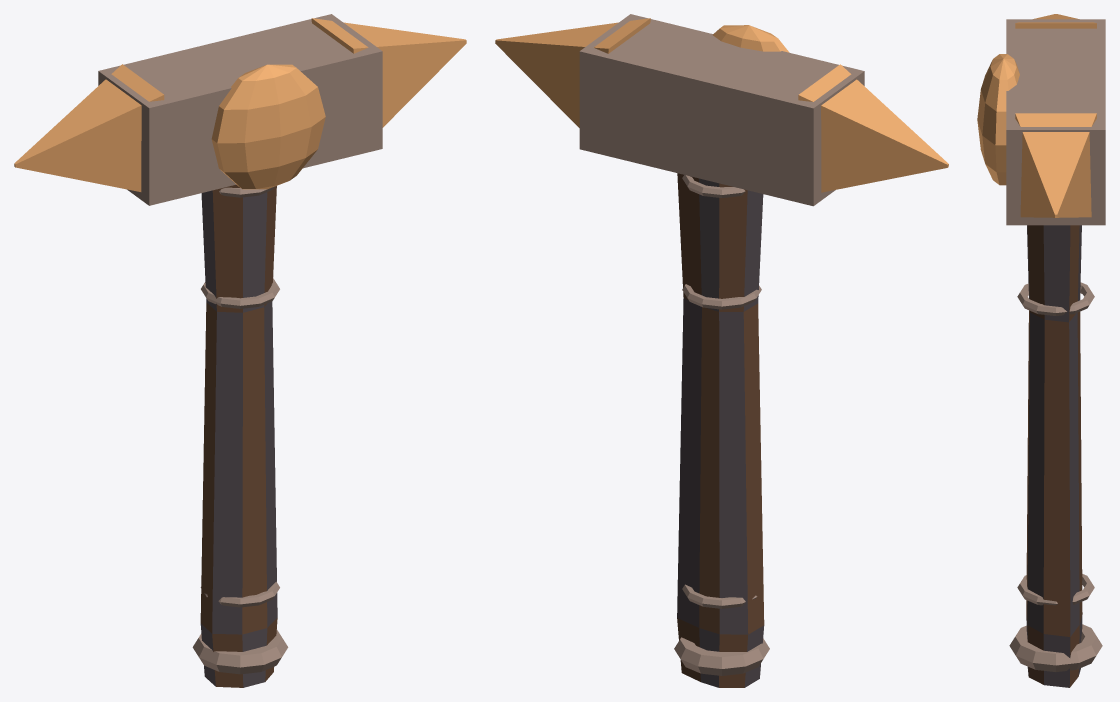
Rendered from BH_PICK_P02_Picareta_de_Cobre_Encantado_V01.glb.
3 views of the same model, side by side, from view 1: azimuth 30°, elevation 25°; view 2: azimuth 150°, elevation 25°; view 3: azimuth 270°, elevation 25° (orthographic). The views are drawn at different scales.
Visible parts, largest first — view 1: Handle | shaped shaft.001, Head | main crossbar.001, Core | socket gem.001, Head | mining tooth L.001, Head | mining tooth R.001, Handle | pommel.001, Handle | binding 3.001; view 2: Handle | shaped shaft.001, Head | main crossbar.001, Head | mining tooth L.001, Head | mining tooth R.001, Handle | pommel.001, Core | socket gem.001, Handle | binding 3.001, Handle | binding 1.001; view 3: Handle | shaped shaft.001, Head | main crossbar.001, Head | mining tooth R.001, Core | socket gem.001, Handle | pommel.001, Handle | binding 3.001, Head | mining tooth L.001, Handle | binding 1.001.
Boxes of the visible parts, left/top/right/bottom form: Handle | shaped shaft.001: left=200, top=184, right=277, bottom=687; Head | main crossbar.001: left=98, top=14, right=382, bottom=205; Core | socket gem.001: left=211, top=64, right=325, bottom=189; Head | mining tooth L.001: left=14, top=64, right=164, bottom=191; Head | mining tooth R.001: left=311, top=18, right=466, bottom=127; Handle | pommel.001: left=192, top=629, right=288, bottom=674; Handle | binding 3.001: left=201, top=278, right=279, bottom=308; Handle | shaped shaft.001: left=677, top=173, right=764, bottom=687; Head | main crossbar.001: left=579, top=14, right=864, bottom=206; Head | mining tooth L.001: left=798, top=64, right=948, bottom=192; Head | mining tooth R.001: left=495, top=18, right=650, bottom=127; Handle | pommel.001: left=674, top=637, right=769, bottom=675; Core | socket gem.001: left=713, top=25, right=789, bottom=52; Handle | binding 3.001: left=682, top=284, right=761, bottom=309; Handle | binding 1.001: left=682, top=584, right=757, bottom=608; Handle | shaped shaft.001: left=1026, top=225, right=1082, bottom=687; Head | main crossbar.001: left=1006, top=19, right=1105, bottom=225; Head | mining tooth R.001: left=1015, top=113, right=1096, bottom=217; Core | socket gem.001: left=977, top=54, right=1019, bottom=185; Handle | pommel.001: left=1009, top=624, right=1102, bottom=671; Handle | binding 3.001: left=1017, top=282, right=1094, bottom=315; Head | mining tooth L.001: left=1015, top=14, right=1096, bottom=28; Handle | binding 1.001: left=1017, top=574, right=1094, bottom=605.
Bounding box in the file's own units: 1.74 × 2.32 × 0.44.
